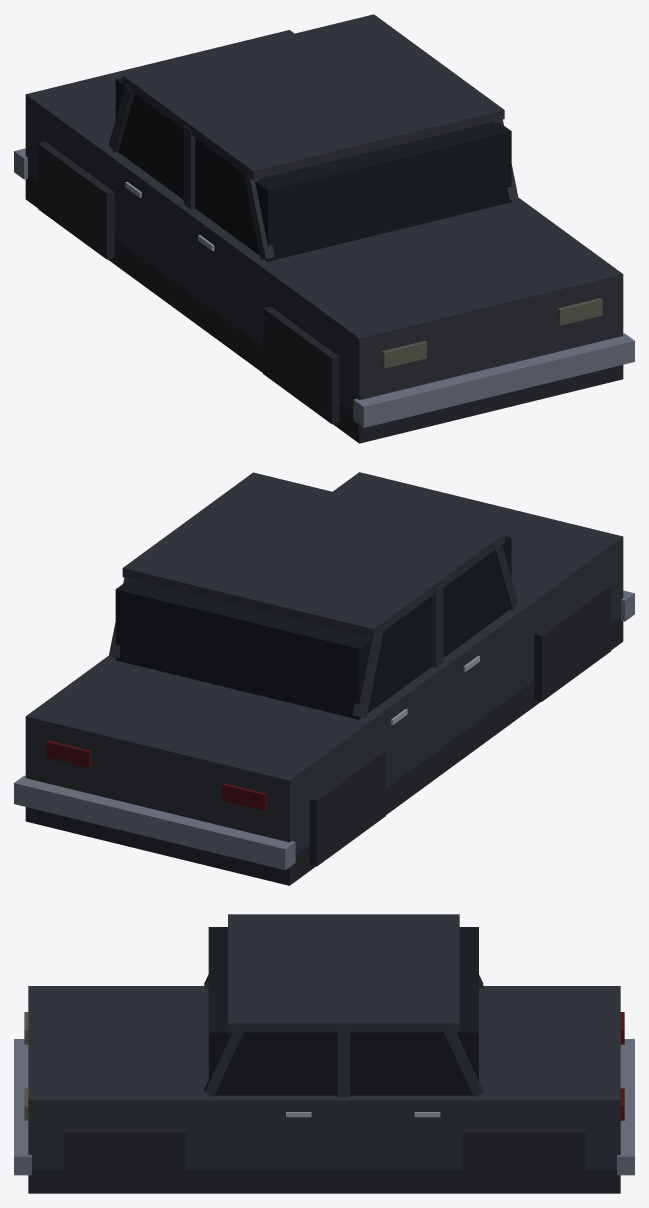
Rendered from getaway_car.glb.
3 renders of one model, top to bottom at view 1: azimuth 30°, elevation 25°; view 2: azimuth 150°, elevation 25°; view 3: azimuth 270°, elevation 25°, orthographic. The views are drawn at different scales.
Parts seen in each view (by area): view 1: body_getaway_paint, body_getaway_glass, body_car_black, body_car_grey, frame_getaway_paint, lights_lamp_off; view 2: body_getaway_paint, body_getaway_glass, body_car_black, body_car_grey, frame_getaway_paint, lights_tail_off; view 3: body_getaway_paint, body_car_black, body_getaway_glass, body_car_grey, frame_getaway_paint.
Boxes of the visible parts, x1=… form: body_getaway_paint: x1=25, y1=14, x2=623, y2=412; body_getaway_glass: x1=115, y1=77, x2=511, y2=261; body_car_black: x1=25, y1=142, x2=623, y2=443; body_car_grey: x1=14, y1=148, x2=634, y2=427; frame_getaway_paint: x1=109, y1=84, x2=518, y2=259; lights_lamp_off: x1=382, y1=298, x2=602, y2=368; body_getaway_paint: x1=25, y1=472, x2=623, y2=854; body_getaway_glass: x1=115, y1=536, x2=511, y2=719; body_car_black: x1=25, y1=584, x2=623, y2=885; body_car_grey: x1=14, y1=590, x2=634, y2=870; frame_getaway_paint: x1=109, y1=542, x2=518, y2=717; lights_tail_off: x1=46, y1=740, x2=266, y2=810; body_getaway_paint: x1=28, y1=914, x2=620, y2=1170; body_car_black: x1=28, y1=1129, x2=620, y2=1193; body_getaway_glass: x1=208, y1=927, x2=478, y2=1095; body_car_grey: x1=14, y1=1039, x2=634, y2=1175; frame_getaway_paint: x1=204, y1=974, x2=483, y2=1097.
Size of the model in its own units: 2.22 by 1.44 by 4.82.
